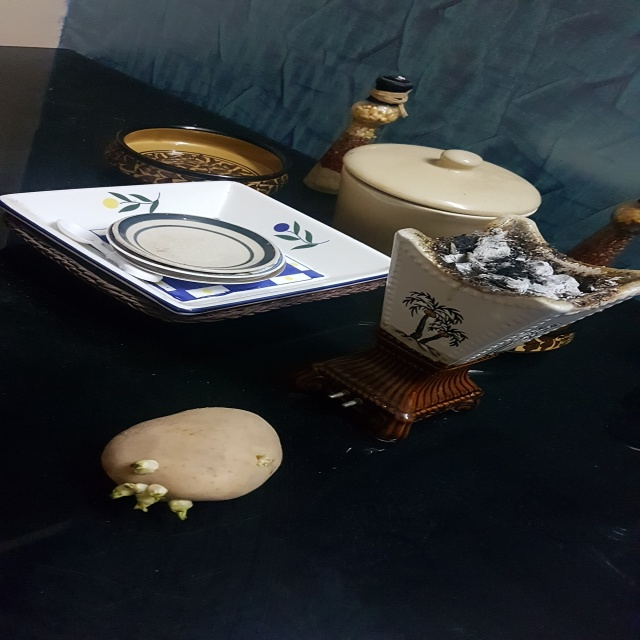potato: (100, 405, 283, 516)
